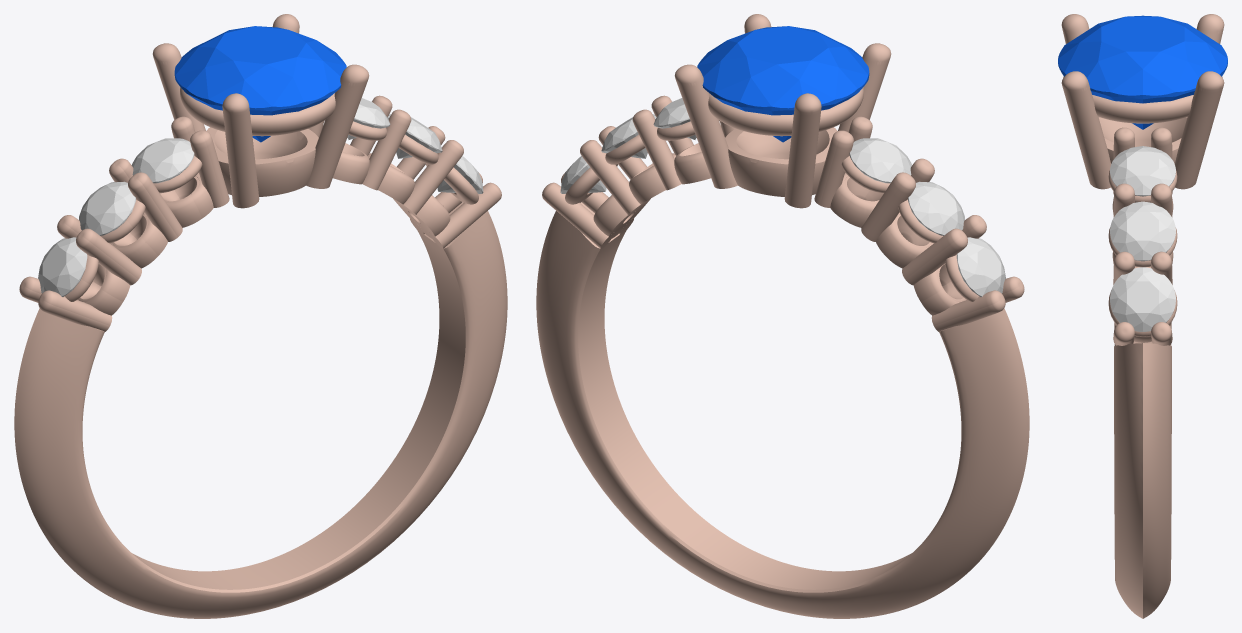
Rendered from bluesapphire-round-rosegold-4prong-knifeedge-3stone.glb.
3 renders of one model, left to right at view 1: azimuth 30°, elevation 25°; view 2: azimuth 150°, elevation 25°; view 3: azimuth 270°, elevation 25°, orthographic.
Visible parts, largest first — view 1: metal, stone, side.001, side.002, side, side.004, side.003, side.005; view 2: metal, stone, side.001, side.002, side, side.004, side.003, side.005; view 3: metal, stone, side.005, side.004, side.003.
Part boxes in pixels (x1=…): metal: x1=14, y1=14, x2=507, y2=618; stone: x1=174, y1=26, x2=346, y2=142; side.001: x1=79, y1=181, x2=135, y2=235; side.002: x1=38, y1=237, x2=87, y2=296; side: x1=131, y1=138, x2=194, y2=183; side.004: x1=387, y1=114, x2=442, y2=158; side.003: x1=347, y1=98, x2=390, y2=139; side.005: x1=437, y1=147, x2=483, y2=193; metal: x1=536, y1=14, x2=1029, y2=618; stone: x1=697, y1=26, x2=869, y2=142; side.001: x1=908, y1=181, x2=964, y2=235; side.002: x1=956, y1=237, x2=1005, y2=296; side: x1=849, y1=138, x2=912, y2=183; side.004: x1=601, y1=114, x2=656, y2=158; side.003: x1=653, y1=98, x2=696, y2=139; side.005: x1=560, y1=147, x2=606, y2=193; metal: x1=1061, y1=14, x2=1224, y2=618; stone: x1=1058, y1=15, x2=1227, y2=129; side.005: x1=1110, y1=267, x2=1175, y2=331; side.004: x1=1110, y1=201, x2=1175, y2=261; side.003: x1=1110, y1=146, x2=1175, y2=196.
Bounding box in the file's own units: 21.24 × 23.31 × 6.44.
